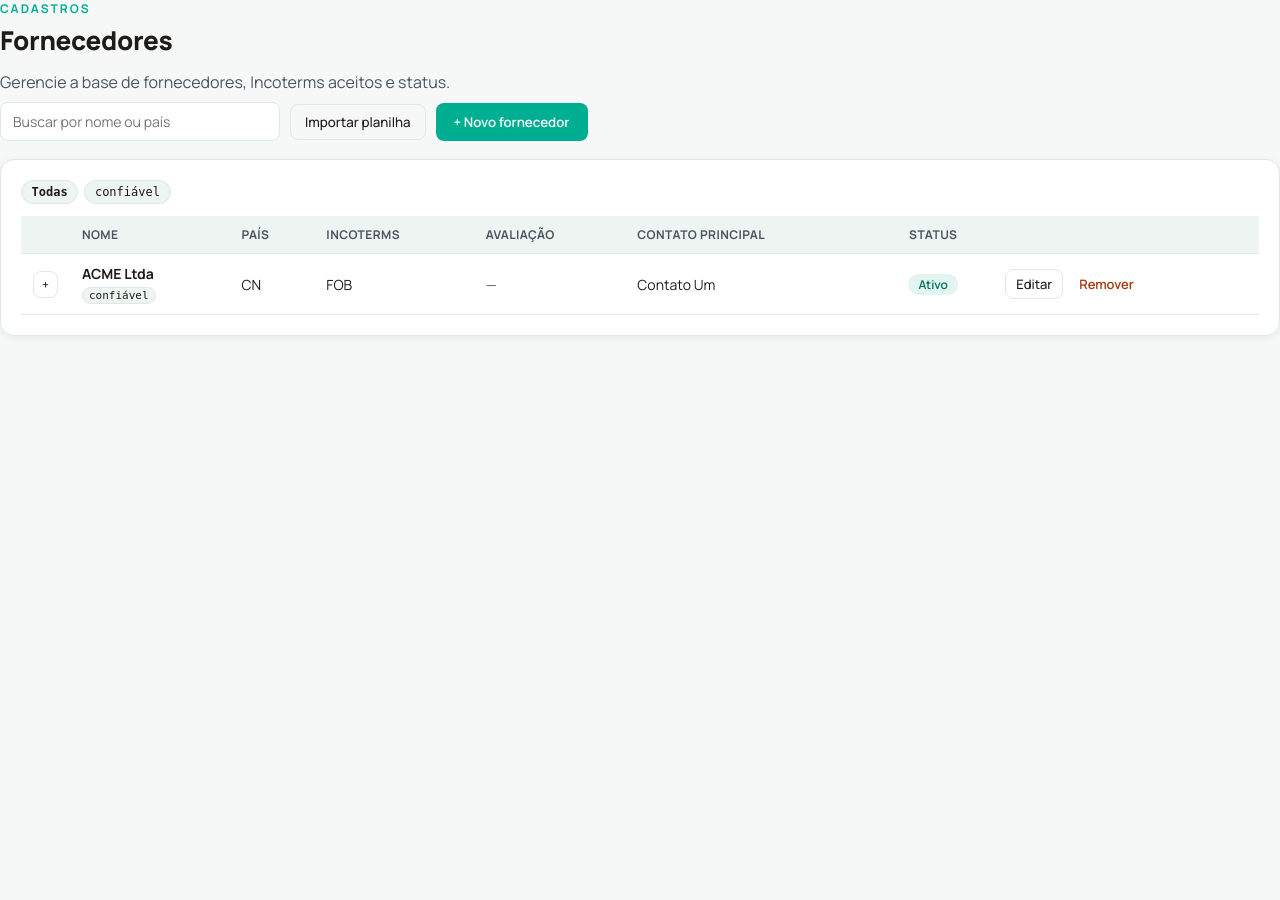
Test: Fornecedores › 9. contato — título de edição: "Editar contato" e #contactName preenchido
Expected: the text "ACME Ltda" is shown, [82,264,154,283]
Click the button named "Mostrar contatos". click: {"x": 45, "y": 284}
box: [33,270,58,298]
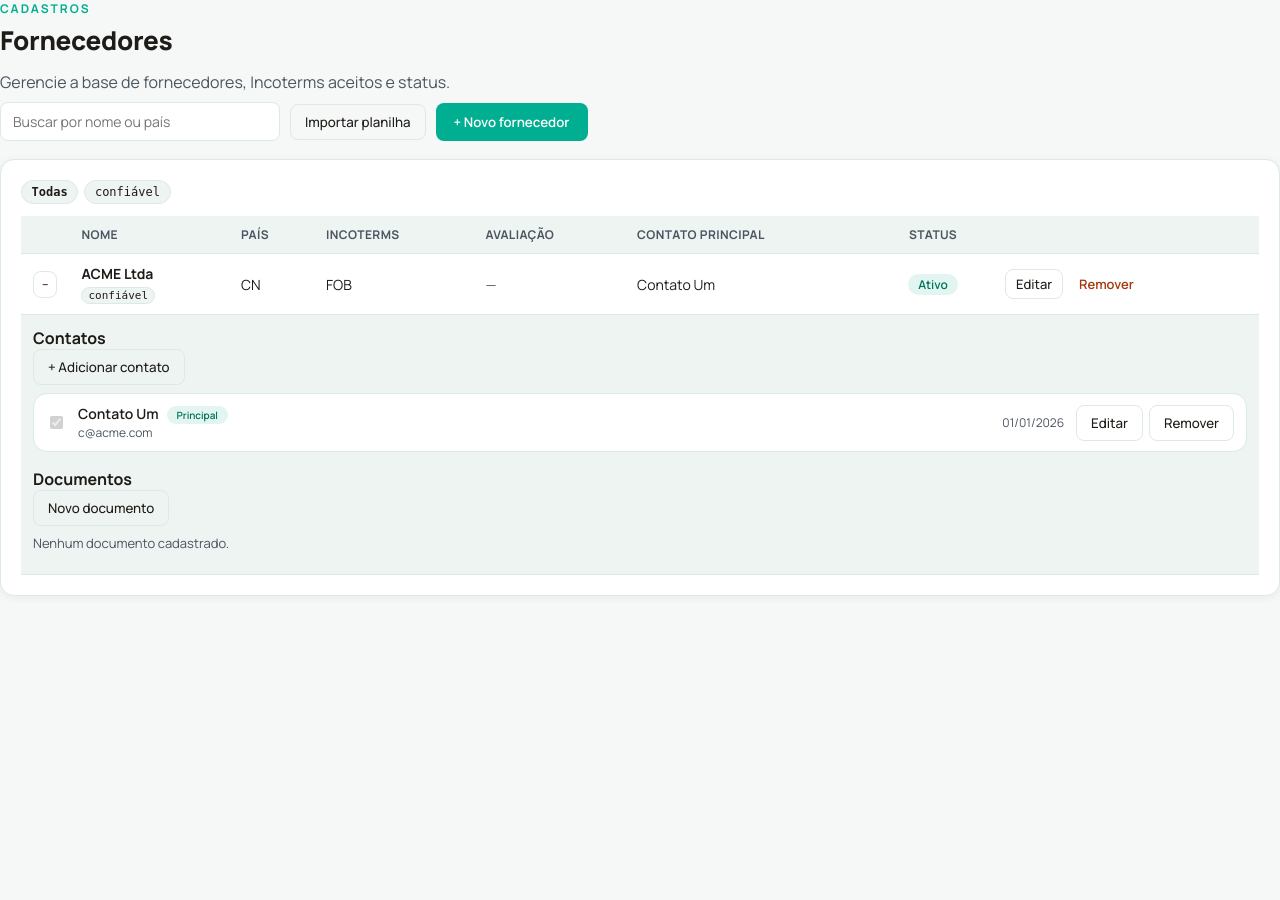
Expected: the text "Contato Um" is shown, [625,254,873,314]
Click the button "Editar" next to "01/01/2026". click: {"x": 1110, "y": 422}
box: [1076,404,1143,440]
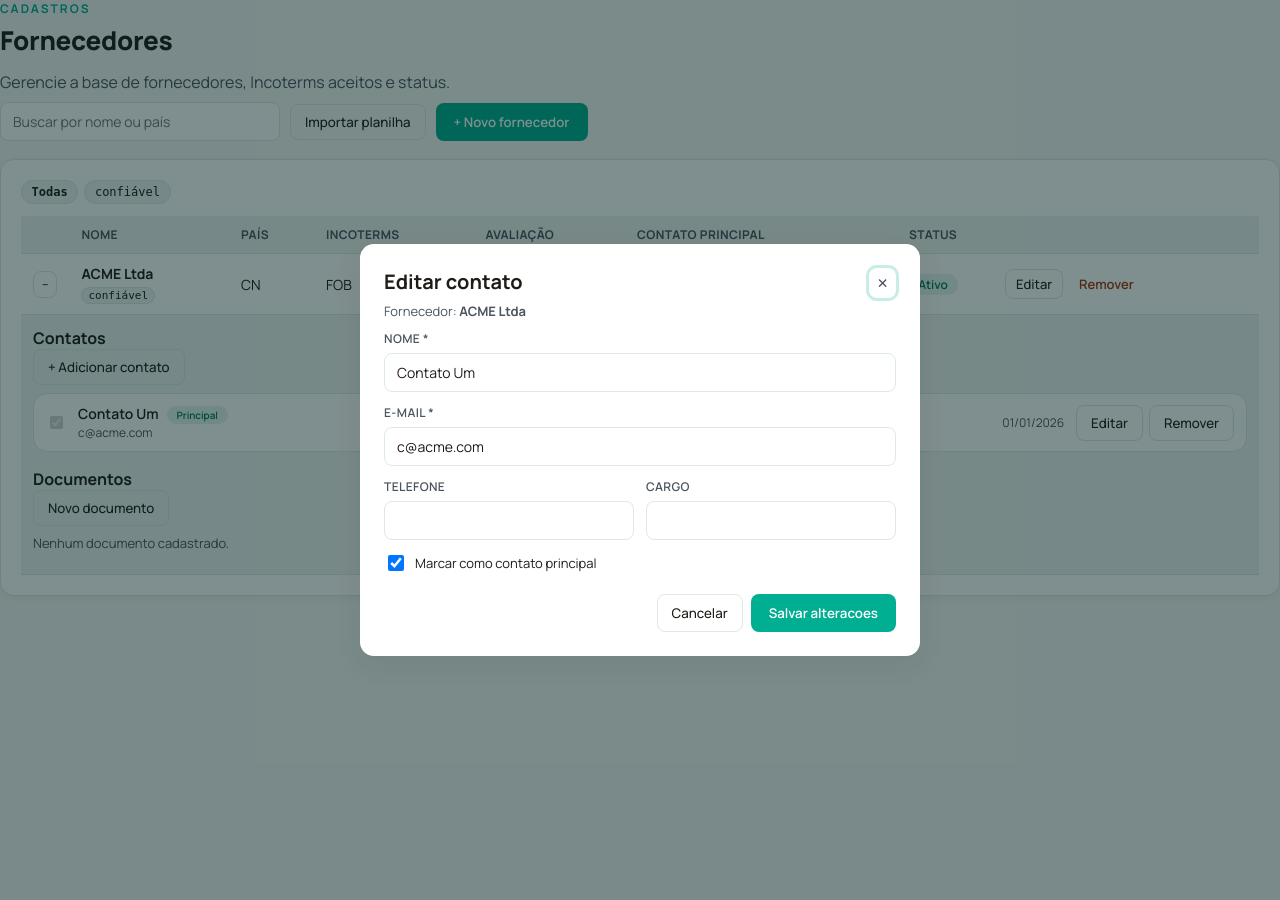
Expected: the heading "Editar contato" is shown, [384,268,522,295]
Expected: the field with id "contactName" holds "Contato Um", [384,353,896,392]
